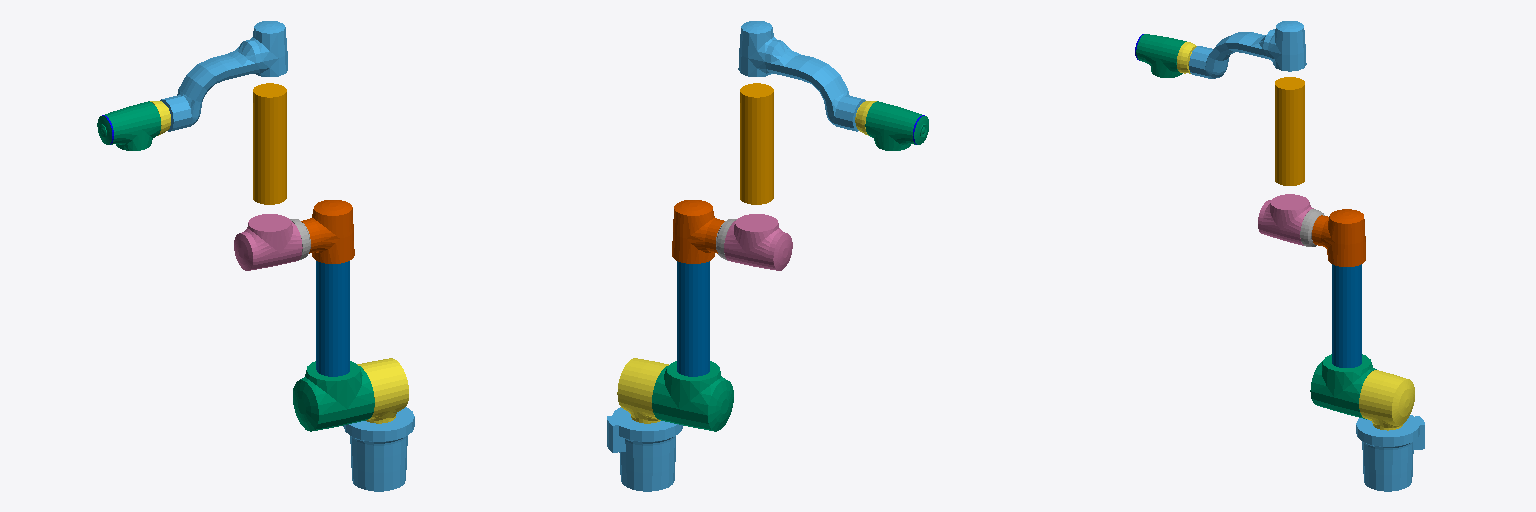
The robot description file, URDF, robot "autogen-robot":
<?xml version="1.0" encoding="utf-8"?>
<robot name="autogen-robot">
	<link name="world"/>
	<joint name="world" type="fixed">
		<parent link="world"/>
		<child link="joint_wrist_b"/>
	</joint>
	<link name="joint_base">
		<visual>
			<origin xyz="0 0 0" rpy="0 0 0"/>
			<geometry>
				<mesh filename="package://inovo_description/meshes/prd/J1.dae"/>
			</geometry>
		</visual>
		<collision name="joint_base">
			<origin xyz="0 0 0.09" rpy="0 0 0"/>
			<geometry>
				<cylinder radius="0.08" length="0.18"/>
			</geometry>
		</collision>
		<inertial>
			<origin xyz="0.0 0.0 0.0873" rpy="0 0 0"/>
			<mass value="4.696"/>
			<inertia ixx="0.0162" iyy="0.0162" izz="0.0138" ixy="-0.00037" ixz="-0.000216" iyz="0.00031"/>
		</inertial>
	</link>
	<joint name="joint" type="continuous">
		<axis xyz="0 0 1"/>
		<parent link="joint_base"/>
		<child link="flange"/>
		<origin xyz="0 0 0.26022" rpy="0 0 0"/>
		<dynamics friction="0.0" damping="0.0"/>
		<limit effort="3.0" velocity="1.8"/>
	</joint>
	<link name="joint_shoulder">
		<visual>
			<origin xyz="0 0 0" rpy="0 0 0"/>
			<geometry>
				<mesh filename="package://inovo_description/meshes/prd/J2.dae"/>
			</geometry>
		</visual>
		<collision name="joint_shoulder">
			<origin xyz="-0.005 0 0" rpy="0 1.57079632679 0"/>
			<geometry>
				<cylinder radius="0.08" length="0.17"/>
			</geometry>
		</collision>
		<inertial>
			<origin xyz="0.01745 0.0 -0.03032" rpy="0 0 0"/>
			<mass value="5.24"/>
			<inertia ixx="0.01699" ixy="0.0" ixz="-0.0005" iyy="0.01758" iyz="0.0" izz="0.01251"/>
		</inertial>
	</link>
	<joint name="joint" type="continuous">
		<axis xyz="0 0 1"/>
		<parent link="joint_shoulder"/>
		<child link="joint_shoulder_output"/>
		<origin xyz="0.1335 0 0" rpy="0 4.7123889804 3.14159265359"/>
		<dynamics friction="0.0" damping="0.0"/>
		<limit effort="4.0" velocity="1.8"/>
	</joint>
	<link name="joint_shoulder_output">
		<visual>
			<origin xyz="0 0 0" rpy="0 4.71238 3.1415"/>
			<geometry>
				<mesh filename="package://inovo_description/meshes/prd/J2_1.dae"/>
			</geometry>
		</visual>
		<collision name="joint_shoulder_output">
			<origin xyz="0 0 0.002" rpy="0 0 0"/>
			<geometry>
				<cylinder radius="0.08" length="0.11"/>
			</geometry>
		</collision>
		<inertial>
			<origin xyz="0.00803 0.0 -0.0271" rpy="0 0 0"/>
			<mass value="2.243"/>
			<inertia ixx="0.00579" iyy="0.00653" izz="0.00604" ixy="0.0" ixz="0.000577" iyz="0.0"/>
		</inertial>
	</link>
	<joint name="joint_shoulder_output_joint" type="fixed">
		<parent link="joint_shoulder_output"/>
		<child link="joint_base"/>
		<origin xyz="0.07975 0.0 0.0" rpy="3.14159265359 -1.57079632679 0"/>
	</joint>
	<link name="joint_prdlink3">
		<visual>
			<geometry>
				<mesh filename="package://inovo_description/meshes/prd/TUBE_470.dae"/>
			</geometry>
		</visual>
		<collision>
			<origin xyz="0 0 0.235" rpy="0 0 0"/>
			<geometry>
				<cylinder radius="0.05" length="0.473"/>
			</geometry>
		</collision>
		<inertial>
			<origin xyz="0.0 0.0 0.20157" rpy="0 0 0"/>
			<mass value="1.321"/>
			<inertia ixx="0.04319" iyy="0.0432" izz="0.00177" ixy="0.0" ixz="0.0" iyz="0.0"/>
		</inertial>
	</link>
	<joint name="joint_prdlink3_coupling" type="fixed">
		<parent link="joint_prdlink3"/>
		<child link="joint_shoulder"/>
		<origin xyz="0 0 0.4704" rpy="0 0 0"/>
	</joint>
	<link name="joint_elbow">
		<visual>
			<origin xyz="0 0 0.09025" rpy="3.14 3.14 3.14"/>
			<geometry>
				<mesh filename="package://inovo_description/meshes/prd/J3.dae"/>
			</geometry>
		</visual>
		<collision name="joint_elbow">
			<origin xyz="0 0 0.09" rpy="0 1.57 0"/>
			<geometry>
				<cylinder radius="0.06" length="0.14"/>
			</geometry>
		</collision>
		<inertial>
			<origin xyz="-0.01456 0.0 0.0112" rpy="0 0 0"/>
			<mass value="2.58"/>
			<inertia ixx="0.00555" ixy="0.0" ixz="-0.00039" iyy="0.0066" iyz="0.0" izz="0.00459"/>
		</inertial>
	</link>
	<joint name="joint" type="continuous">
		<axis xyz="0 0 1"/>
		<parent link="joint_elbow"/>
		<child link="joint_prdlink3"/>
		<origin xyz="0 0 0.09025" rpy="0 -1.57079632679 0"/>
		<dynamics friction="0.0" damping="0.0"/>
		<limit effort="10.0" velocity="2.5"/>
	</joint>
	<link name="joint_elbow_output">
		<visual>
			<origin xyz="0 0 0.1335" rpy="0 1.57 0"/>
			<geometry>
				<mesh filename="package://inovo_description/meshes/prd/J4.dae"/>
			</geometry>
		</visual>
		<collision name="joint_elbow_output">
			<origin xyz="-0.013 0 0.13" rpy="0 1.57 0"/>
			<geometry>
				<cylinder radius="0.06" length="0.15"/>
			</geometry>
		</collision>
		<inertial>
			<origin xyz="0.0 0.0 0.1109" rpy="0 0 0"/>
			<mass value="2.582"/>
			<inertia ixx="0.00464" ixy="0.0" ixz="-0.00" iyy="0.00631" iyz="0.0" izz="0.00523"/>
		</inertial>
	</link>
	<joint name="joint" type="continuous">
		<axis xyz="0 0 1"/>
		<parent link="joint_elbow_output"/>
		<child link="joint_forearm"/>
		<origin xyz="0 0 0.1335" rpy="0 -1.57079632679 3.141592653590"/>
		<dynamics friction="0.0" damping="0.0"/>
		<limit effort="10.0" velocity="2.6"/>
	</joint>
	<link name="joint_forearm">
		<visual>
			<origin xyz="0 0 0.0647" rpy="0 0 0"/>
			<geometry>
				<mesh filename="package://inovo_description/meshes/prd/J4_1.dae"/>
			</geometry>
		</visual>
		<collision name="joint_forearm">
			<origin xyz="0 0 0.08" rpy="0 0 0"/>
			<geometry>
				<cylinder radius="0.06" length="0.025"/>
			</geometry>
		</collision>
		<inertial>
			<origin xyz="0.0 0.0 0.05836" rpy="0 0 0"/>
			<mass value="0.686"/>
			<inertia ixx="0.000858" ixy="0.0" ixz="0.0" iyy="0.000856" iyz="0.0" izz="0.000725"/>
		</inertial>
	</link>
	<joint name="joint_forearm_coupling" type="fixed">
		<parent link="joint_forearm"/>
		<child link="joint_elbow"/>
		<origin xyz="0 0 0.09477" rpy="0 0 3.141592653590"/>
	</joint>
	<link name="joint_prdlink2">
		<visual>
			<geometry>
				<mesh filename="package://inovo_description/meshes/prd/TUBE_300.dae"/>
			</geometry>
		</visual>
		<collision>
			<origin xyz="0 0 0.165" rpy="0 0 0"/>
			<geometry>
				<cylinder radius="0.05" length="0.33"/>
			</geometry>
		</collision>
		<inertial>
			<origin xyz="0.0 0.0 0.12513" rpy="0 0 0"/>
			<mass value="1.084"/>
			<inertia ixx="0.0151" iyy="0.0151" izz="0.00137" ixy="0.0" ixz="0.0" iyz="0.0005"/>
		</inertial>
	</link>
	<joint name="joint_prdlink2_coupling" type="fixed">
		<parent link="joint_prdlink2"/>
		<child link="joint_elbow_output"/>
		<origin xyz="0 0 0.3004" rpy="0 0 0"/>
	</joint>
	<link name="joint_jlink">
		<visual>
			<origin xyz="0 0 0.30523" rpy="0 0 0"/>
			<geometry>
				<mesh filename="package://inovo_description/meshes/prd/J5.dae"/>
			</geometry>
		</visual>
		<collision>
			<origin xyz="0 0 0.30523" rpy="0 0 0"/>
			<geometry>
				<mesh filename="package://inovo_description/meshes/prd/J5_collision.stl"/>
			</geometry>
		</collision>
		<inertial>
			<origin xyz="0.07445 0.0 0.21491" rpy="0 0 0"/>
			<mass value="2.187"/>
			<inertia ixx="0.035951" ixy="0.0" ixz="0.0116" iyy="0.0407" iyz="0.0" izz="0.00685"/>
		</inertial>
	</link>
	<joint name="joint" type="continuous">
		<axis xyz="0 0 1"/>
		<parent link="joint_jlink"/>
		<child link="joint_prdlink2"/>
		<origin xyz="0 0 0.30523" rpy="0 -1.5707963267908 0"/>
		<dynamics friction="0.0" damping="0.0"/>
		<limit effort="20.0" velocity="3.3"/>
	</joint>
	<link name="joint_wrist_b">
		<visual>
			<origin xyz="0 0 0" rpy="0 1.5707 0"/>
			<geometry>
				<mesh filename="package://inovo_description/meshes/prd/J6.dae"/>
			</geometry>
		</visual>
		<collision name="joint_wrist_b">
			<origin xyz="-0.02 0 0.0" rpy="0 1.57 0"/>
			<geometry>
				<cylinder radius="0.045" length="0.14"/>
			</geometry>
		</collision>
		<inertial>
			<origin xyz="0.01238 0.0 0.00431" rpy="0 0 0"/>
			<mass value="1.933"/>
			<inertia ixx="0.0029" ixy="0.0" ixz="-0.000431" iyy="0.00357" iyz="0.0" izz="0.00235"/>
		</inertial>
	</link>
	<joint name="joint" type="continuous">
		<axis xyz="0 0 1"/>
		<parent link="joint_wrist_b"/>
		<child link="joint_prd1192"/>
		<origin xyz="0 0 0.0" rpy="0 -1.5707963267908 3.141592653590"/>
		<dynamics friction="0.0" damping="0.0"/>
		<limit effort="25.0" velocity="3.3"/>
	</joint>
	<link name="joint_prd1192">
		<visual>
			<origin xyz="0 0 0.0556" rpy="0 1.57 0"/>
			<geometry>
				<mesh filename="package://inovo_description/meshes/prd/J6_1.dae"/>
			</geometry>
		</visual>
		<collision name="joint_prd1192">
			<origin xyz="0 0 0.075" rpy="0 0 0"/>
			<geometry>
				<cylinder radius="0.045" length="0.035"/>
			</geometry>
		</collision>
		<inertial>
			<origin xyz="-0.00145 0.0 0.06063" rpy="0 0 0"/>
			<mass value="0.38"/>
			<inertia ixx="0.000397" ixy="0.0" ixz="0.0" iyy="0.000417" iyz="0.0" izz="0.000244"/>
		</inertial>
	</link>
	<joint name="joint_prd1190_fixed" type="fixed">
		<parent link="joint_prd1192"/>
		<child link="joint_jlink"/>
		<origin xyz="0 0 0.0926" rpy="0 0 0"/>
	</joint>
	<link name="flange"/>
</robot>

--- What the picture shows (computed from the rendered views, not written in the file) ---
The picture shows the robot from 3 angles, left to right: view 1: azimuth 30°, elevation 25°; view 2: azimuth 150°, elevation 25°; view 3: azimuth 330°, elevation 25°; orthographic projection.
Robot: autogen-robot — 13 links, 12 joints (6 continuous, 6 fixed); root link world; default pose: all joints at 0.
Links seen in each view (by area): view 1: joint_jlink, joint_shoulder, joint_base, joint_prdlink2, joint_prdlink3, joint_elbow_output, joint_elbow, joint_wrist_b, joint_shoulder_output; view 2: joint_jlink, joint_base, joint_shoulder, joint_prdlink2, joint_prdlink3, joint_elbow_output, joint_elbow, joint_wrist_b, joint_shoulder_output; view 3: joint_jlink, joint_base, joint_prdlink2, joint_prdlink3, joint_shoulder_output, joint_shoulder, joint_elbow, joint_elbow_output, joint_wrist_b.
Link boxes in pixels (x1,y1,x2,y2): joint_jlink: [160, 21, 287, 131]; joint_shoulder: [293, 361, 374, 431]; joint_base: [343, 407, 414, 491]; joint_prdlink2: [253, 83, 286, 204]; joint_prdlink3: [316, 261, 349, 376]; joint_elbow_output: [234, 214, 302, 270]; joint_elbow: [301, 200, 354, 263]; joint_wrist_b: [97, 101, 160, 150]; joint_shoulder_output: [357, 358, 408, 423]; joint_jlink: [738, 21, 865, 131]; joint_base: [607, 407, 682, 491]; joint_shoulder: [652, 361, 733, 431]; joint_prdlink2: [740, 83, 773, 204]; joint_prdlink3: [677, 261, 709, 376]; joint_elbow_output: [724, 214, 792, 270]; joint_elbow: [672, 200, 724, 263]; joint_wrist_b: [865, 101, 928, 150]; joint_shoulder_output: [617, 358, 668, 423]; joint_jlink: [1189, 21, 1306, 78]; joint_base: [1356, 415, 1424, 491]; joint_prdlink2: [1275, 77, 1304, 185]; joint_prdlink3: [1332, 264, 1361, 367]; joint_shoulder_output: [1359, 370, 1414, 430]; joint_shoulder: [1310, 354, 1376, 419]; joint_elbow: [1312, 209, 1365, 266]; joint_elbow_output: [1258, 194, 1313, 245]; joint_wrist_b: [1135, 34, 1186, 77].
Bounding box of the posed robot: 0.8988 × 0.1815 × 1.34 m (x, y, z).
11 mesh visuals loaded from 11 distinct referenced files (11 Collada DAE).